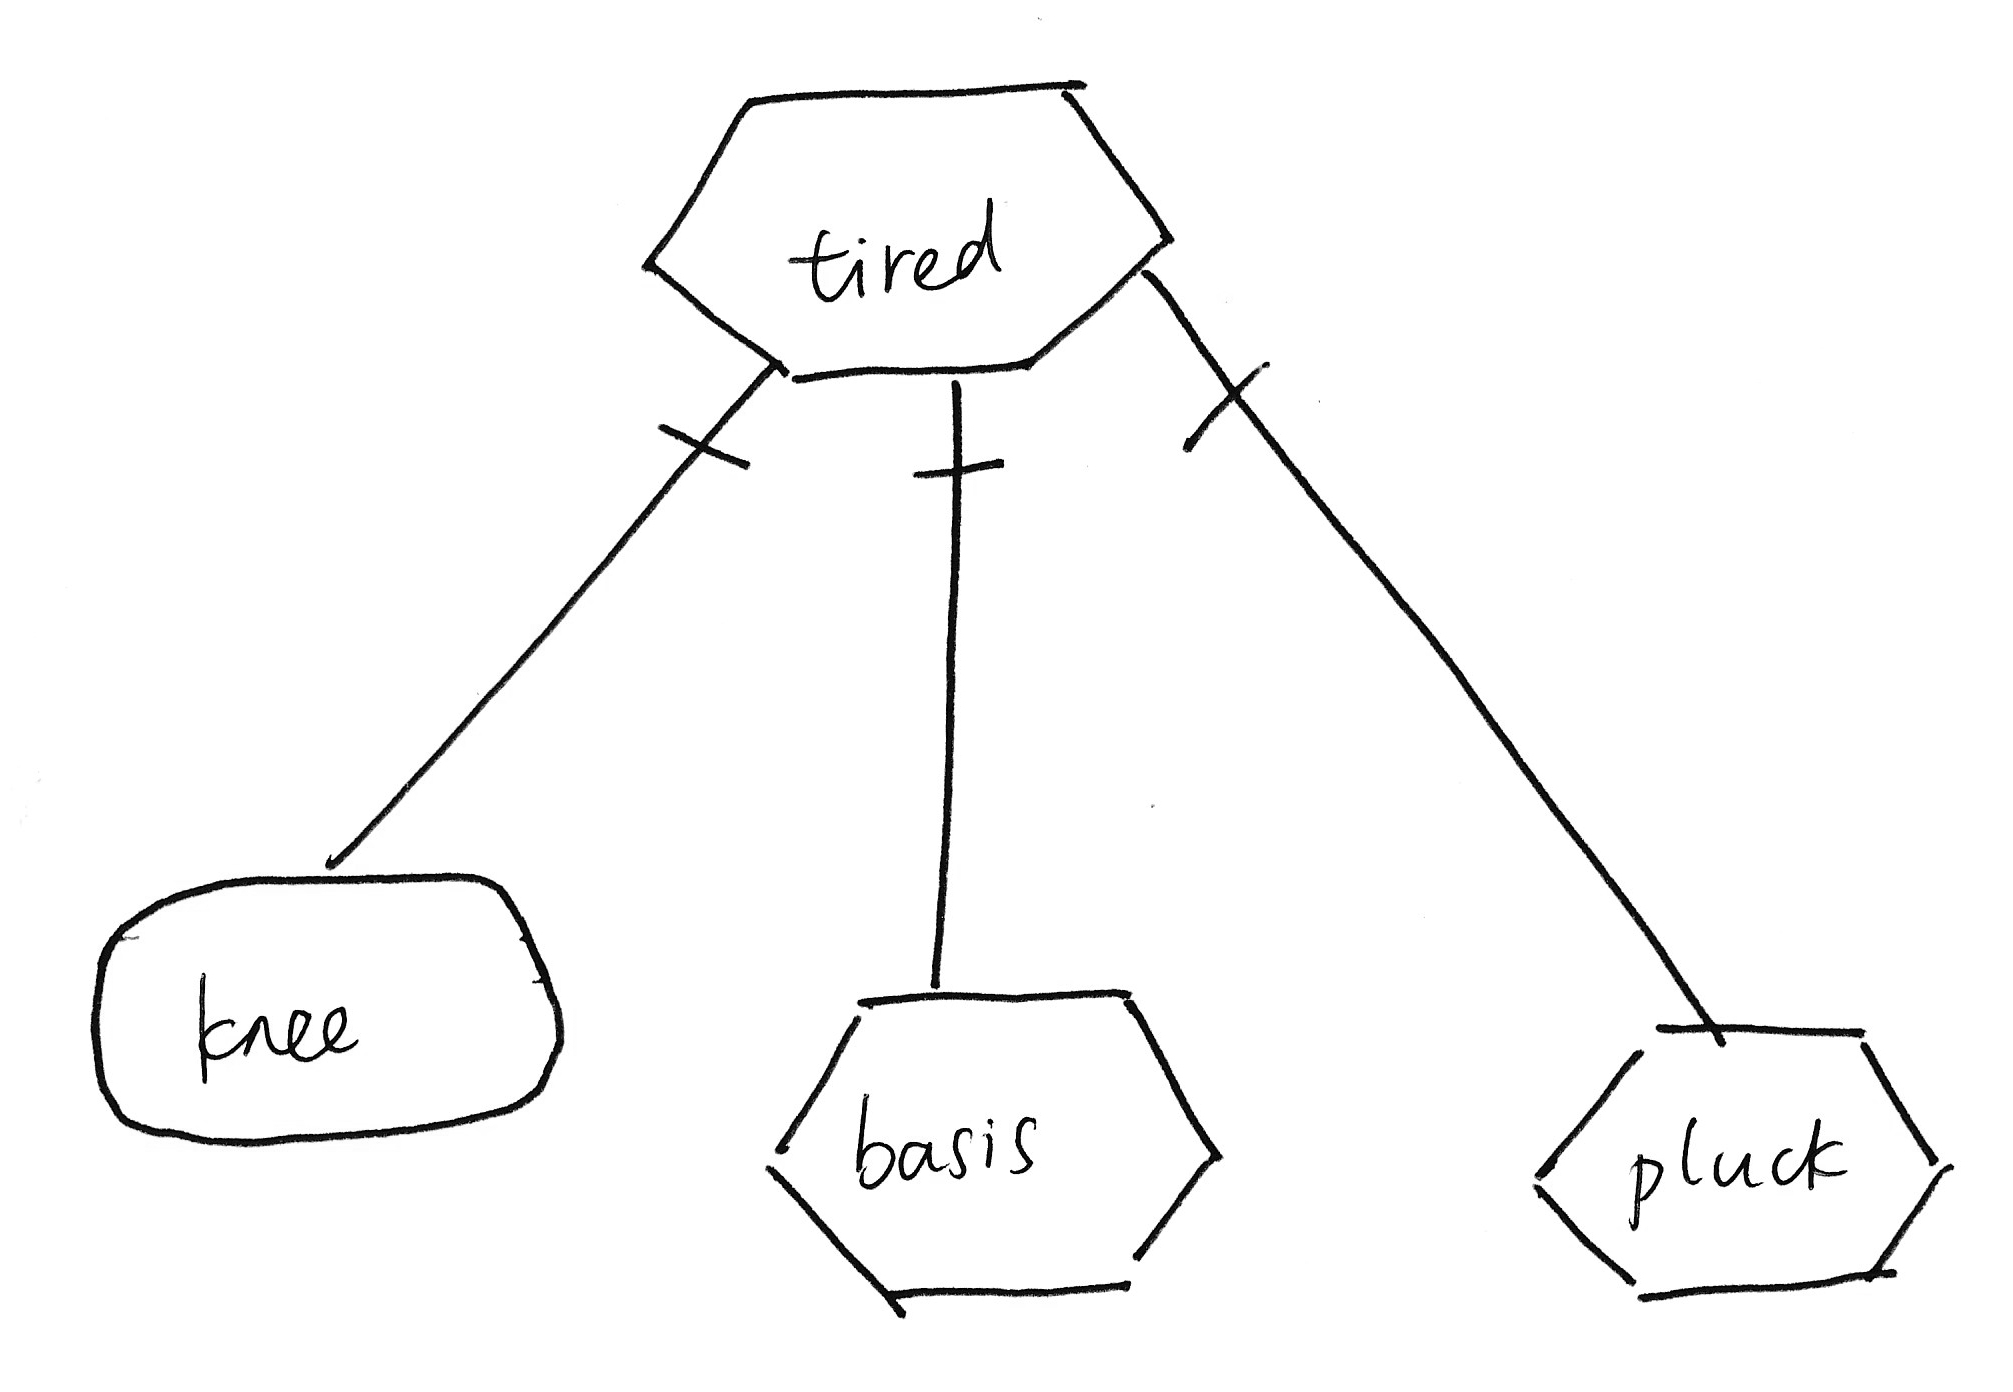and: (1161, 340, 1299, 480), (895, 407, 1026, 526), (642, 392, 766, 506)
goal: (73, 854, 578, 1159)
task: (623, 60, 1187, 396), (740, 971, 1244, 1326), (1511, 1010, 1966, 1317)
